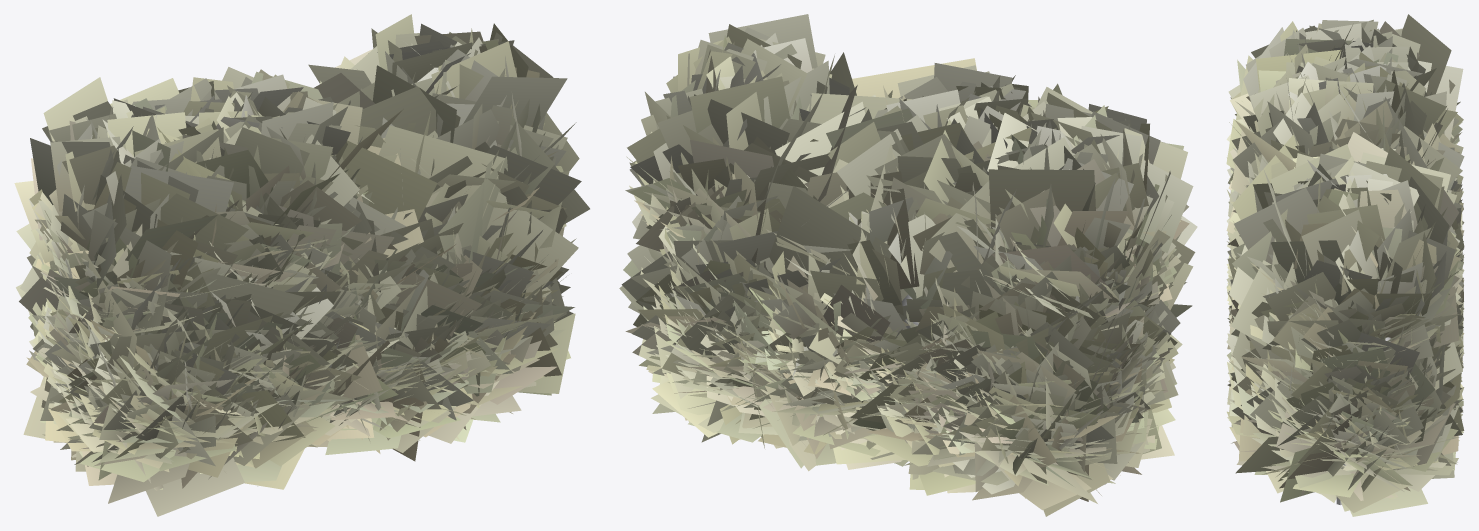
Rendered from hedge_block.glb.
3 views of the same model, side by side, from view 1: azimuth 30°, elevation 25°; view 2: azimuth 150°, elevation 25°; view 3: azimuth 270°, elevation 25° (orthographic). The views are drawn at different scales.
Visible parts, largest first — view 1: hedge_block; view 2: hedge_block; view 3: hedge_block.
Boxes of the visible parts, x1,y1,x2,y2 form: hedge_block: [14, 14, 589, 516]; hedge_block: [619, 14, 1197, 516]; hedge_block: [1226, 14, 1464, 516].
Size of the model in its own units: 4.52 by 3.26 by 2.22.
